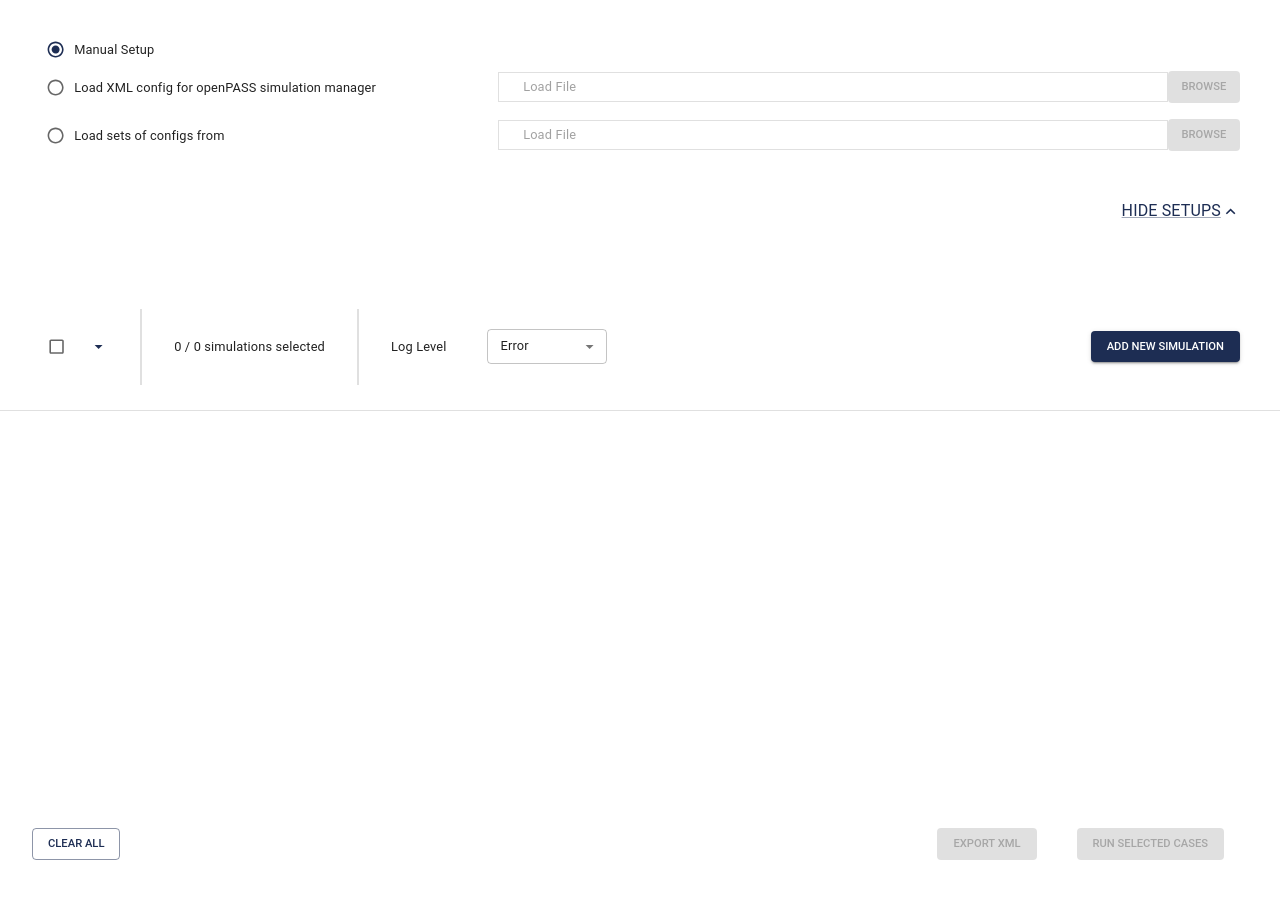
Test: Load XML config for openPASS simulation manager › When Load XML option is selected input file should have class Mui-error
Click the element with test id "test-id-load-xml" at coordinates (56, 87), box x1=46 y1=78 x2=65 y2=97
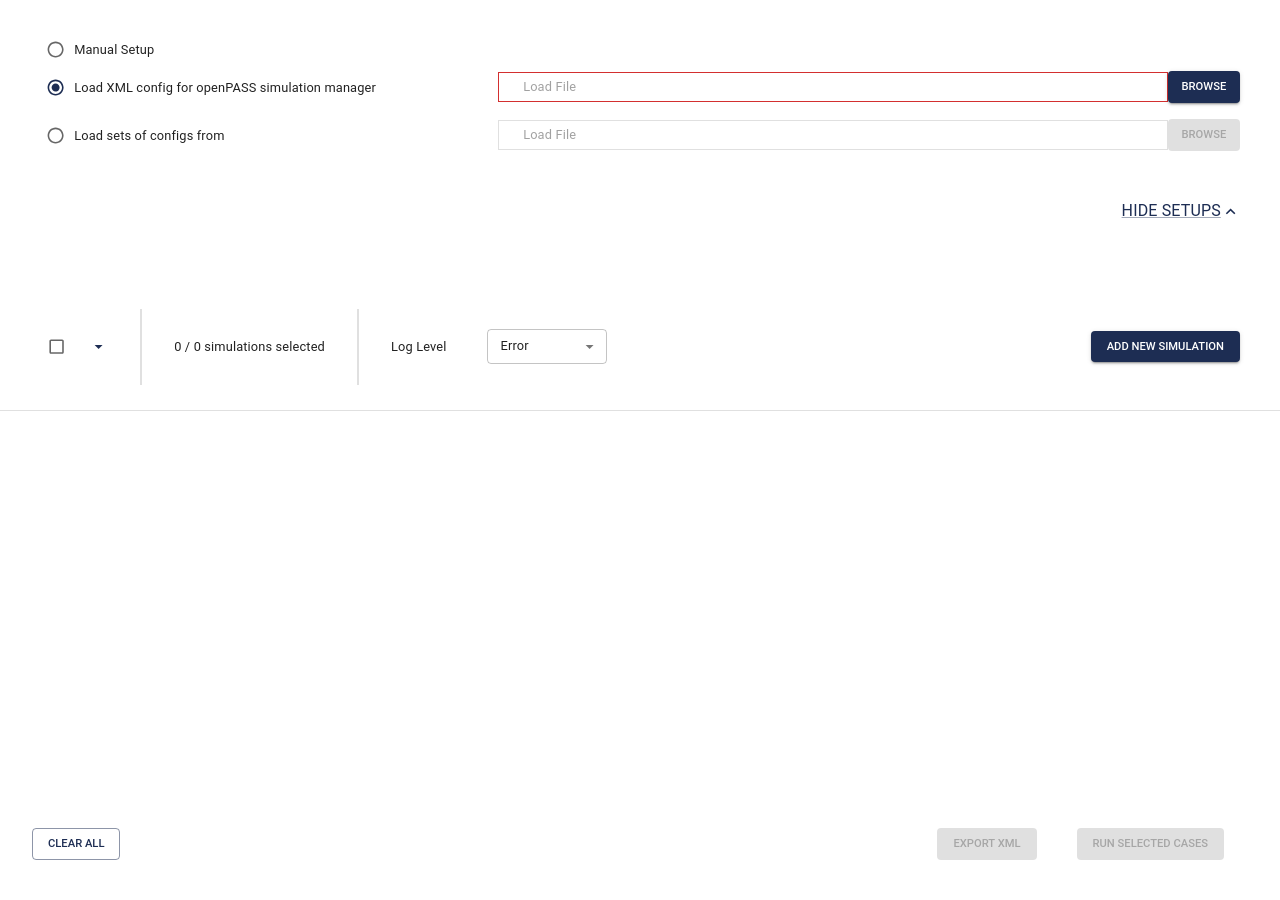
expect the button with test id "test-id-input-button-xmlFile" is enabled: met, box x1=1168 y1=71 x2=1240 y2=103
